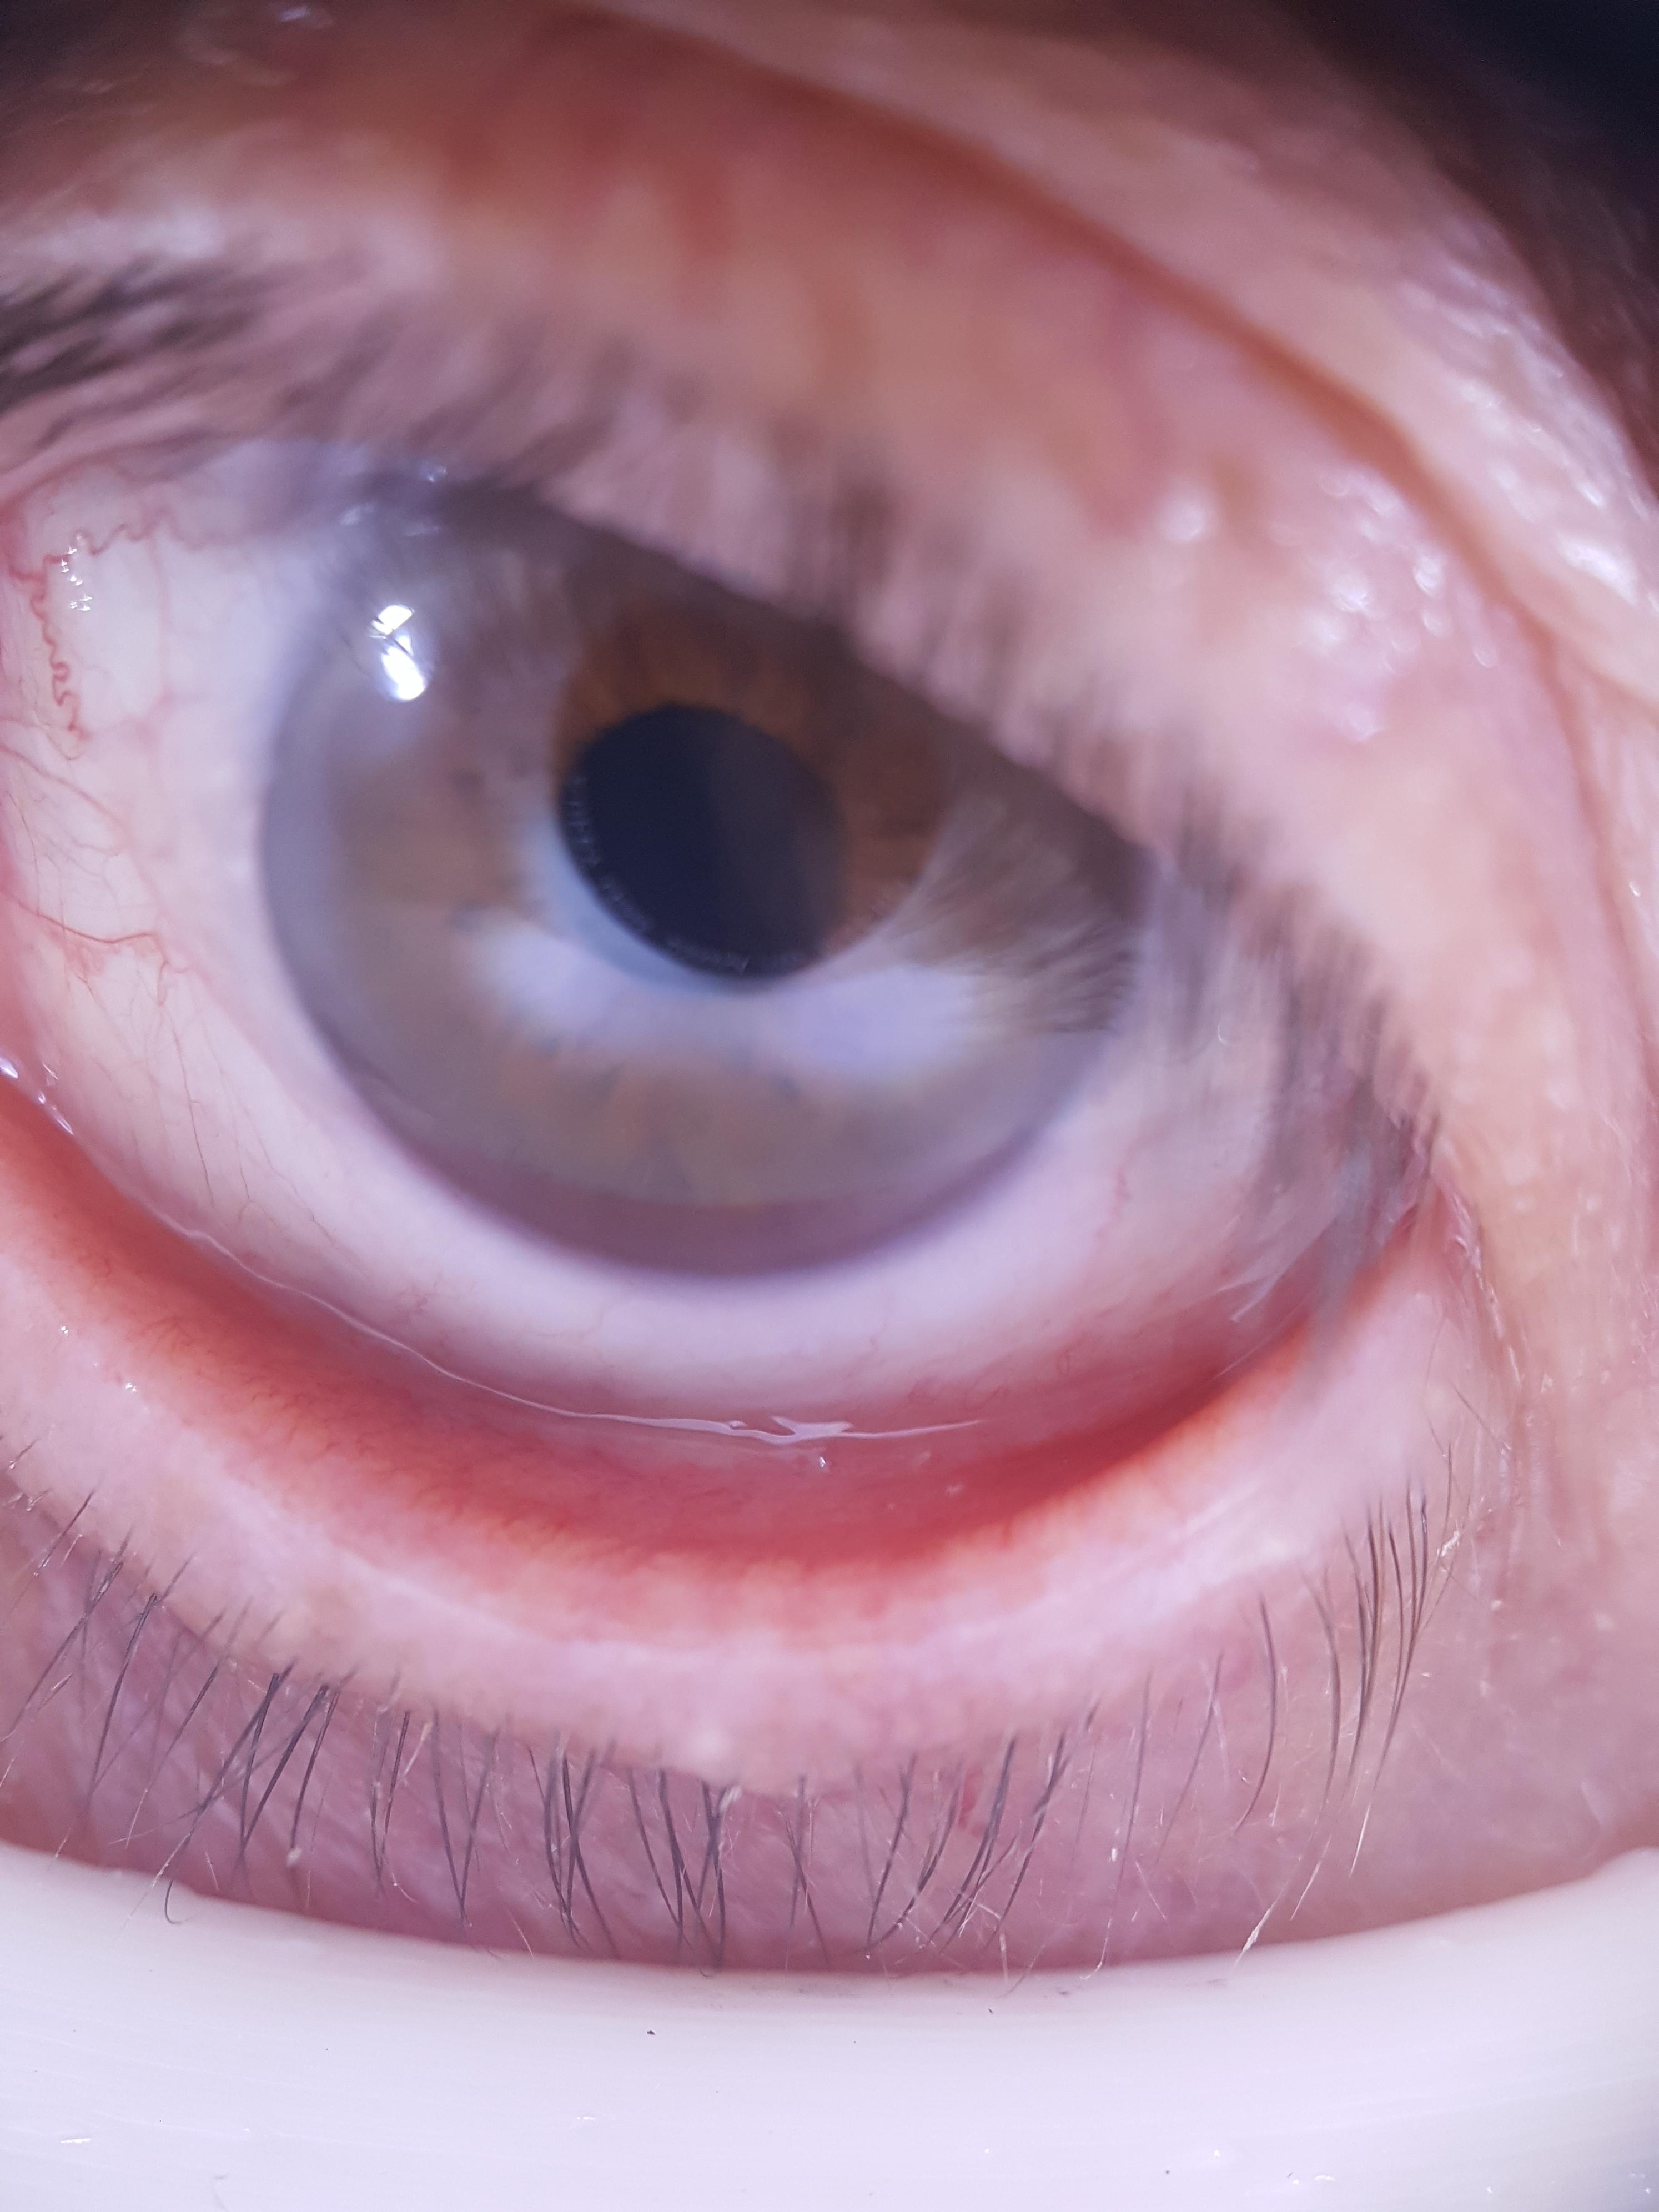forniceal: (2, 1043, 1201, 1472)
forniceal_palpebral: (0, 1029, 1246, 1590)
palpebral: (2, 1076, 1225, 1578)
